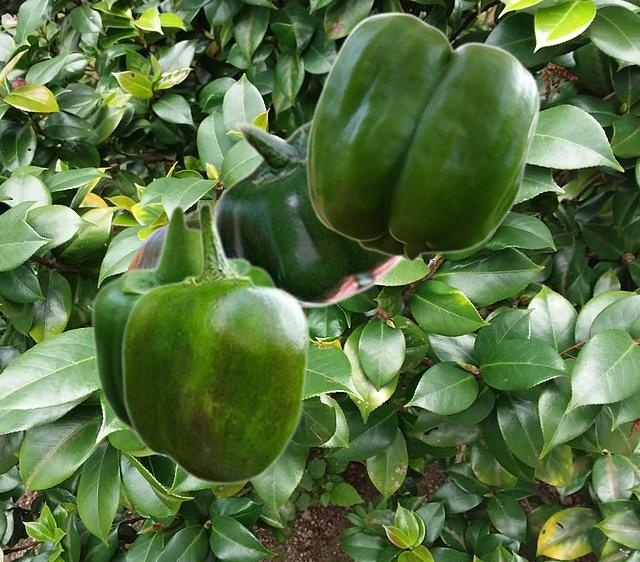bell_pepper: (305, 11, 539, 261), (120, 201, 310, 485), (90, 203, 276, 460), (213, 117, 405, 307), (127, 200, 306, 311)
